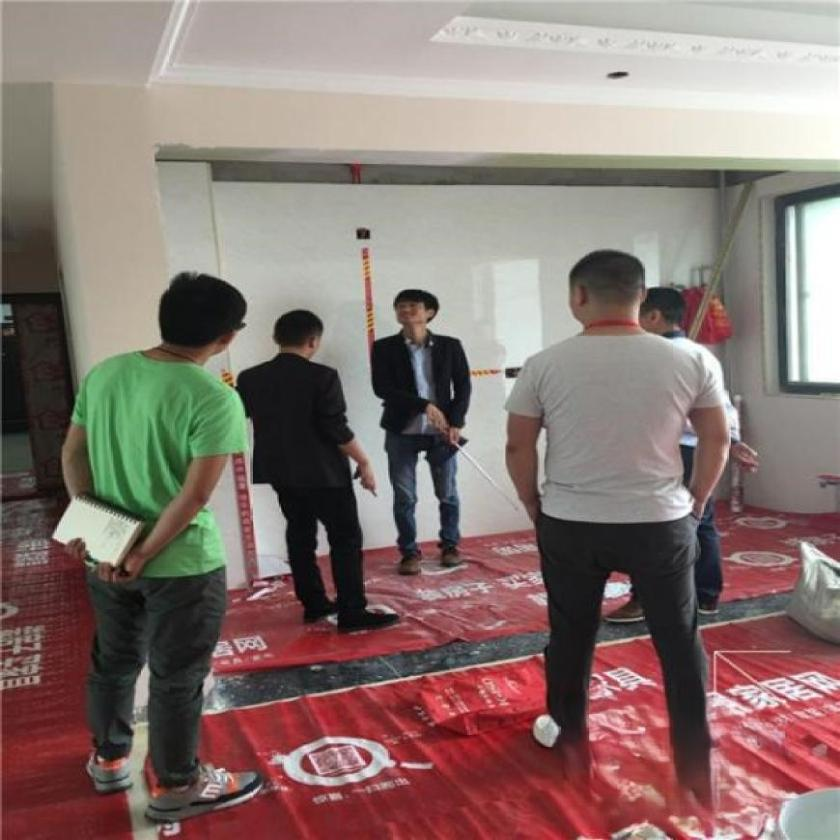Sin_casco: (155, 263, 251, 378), (565, 246, 648, 339), (271, 303, 330, 366), (641, 278, 690, 342), (390, 285, 444, 334)
